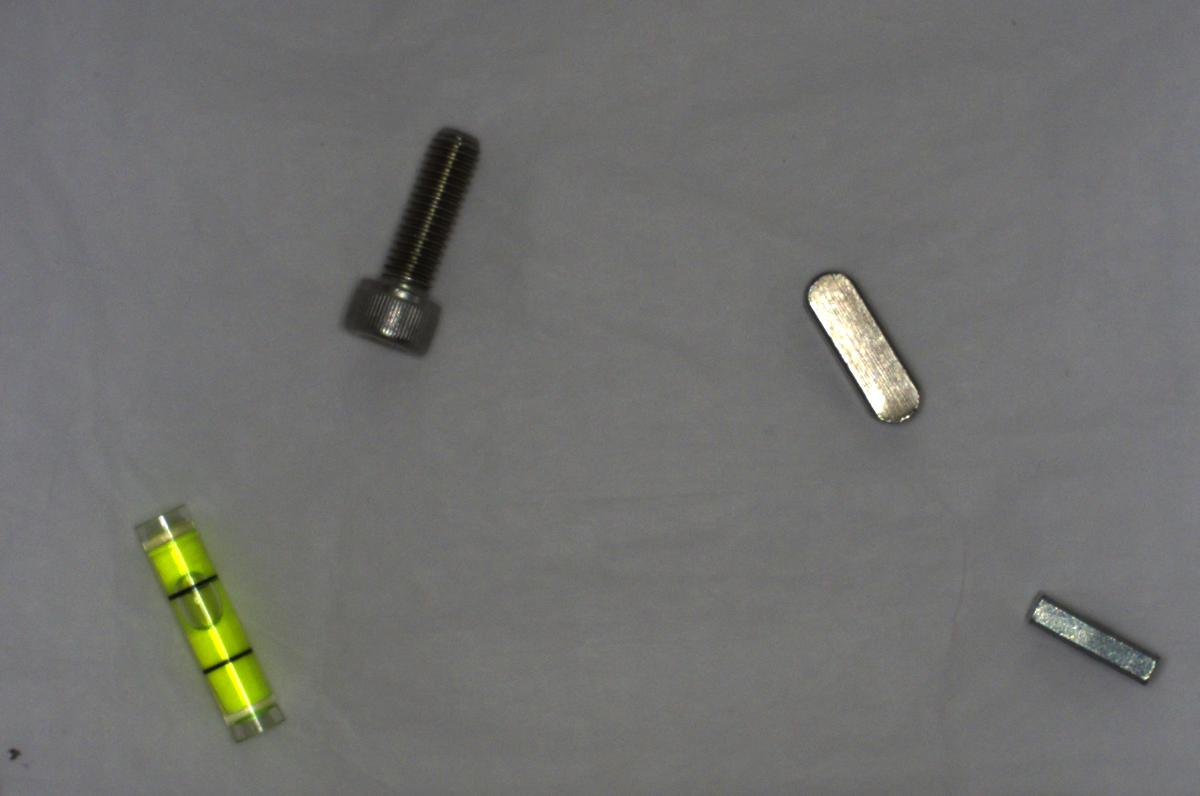Hexagon screw: (330, 119, 479, 358)
Horizontal bubble: (125, 495, 298, 746)
Keybar: (781, 259, 932, 435)
Rectangular nut: (1027, 582, 1165, 692)
